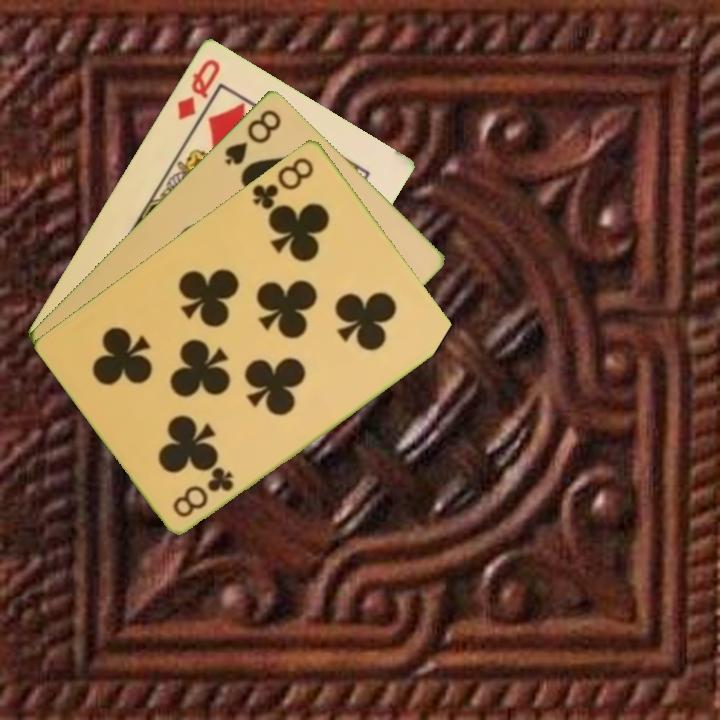8c: (248, 153, 317, 212), (169, 463, 237, 520)
8s: (220, 105, 284, 168)
Qd: (173, 55, 223, 122)
